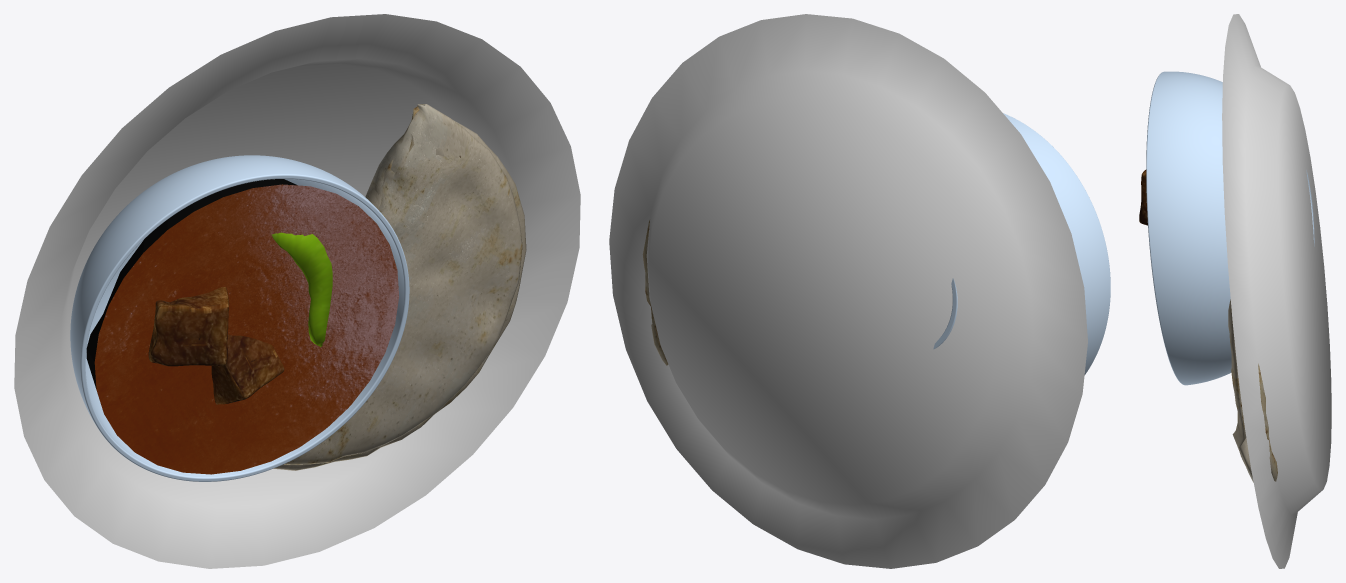
File: masala.glb
3 views of the same model, side by side, from view 1: azimuth 30°, elevation 25°; view 2: azimuth 150°, elevation 25°; view 3: azimuth 270°, elevation 25° (orthographic). The views are drawn at different scales.
Visible parts, largest first — view 1: Circle.002, coffee.004, Cylinder.001, Kugel.005, Cube.006, Cube.007, Vert; view 2: Circle.002, Kugel.005; view 3: Circle.002, Kugel.005, Cylinder.001, Cube.006.
Part boxes in pixels (box(x1,y1,x2,y2)): Circle.002: box(14, 14, 580, 568); coffee.004: box(86, 179, 399, 474); Cylinder.001: box(273, 104, 526, 470); Kugel.005: box(70, 155, 409, 481); Cube.006: box(148, 287, 229, 366); Cube.007: box(211, 334, 284, 404); Vert: box(271, 232, 332, 347); Circle.002: box(609, 14, 1087, 568); Kugel.005: box(933, 113, 1110, 374); Circle.002: box(1222, 14, 1331, 568); Kugel.005: box(1146, 71, 1314, 385); Cylinder.001: box(1228, 299, 1277, 482); Cube.006: box(1139, 169, 1147, 225).
Bounding box in the file's own units: 8.73 × 8.68 × 3.01.
7 materials, 5 textured.
